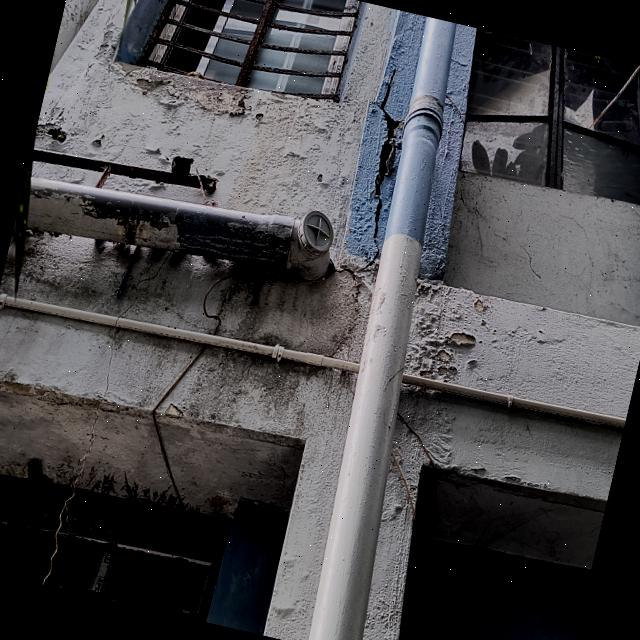crack: (342, 60, 417, 263)
peeling: (92, 60, 342, 144), (402, 275, 533, 396)
stain_mould: (157, 269, 372, 442)
